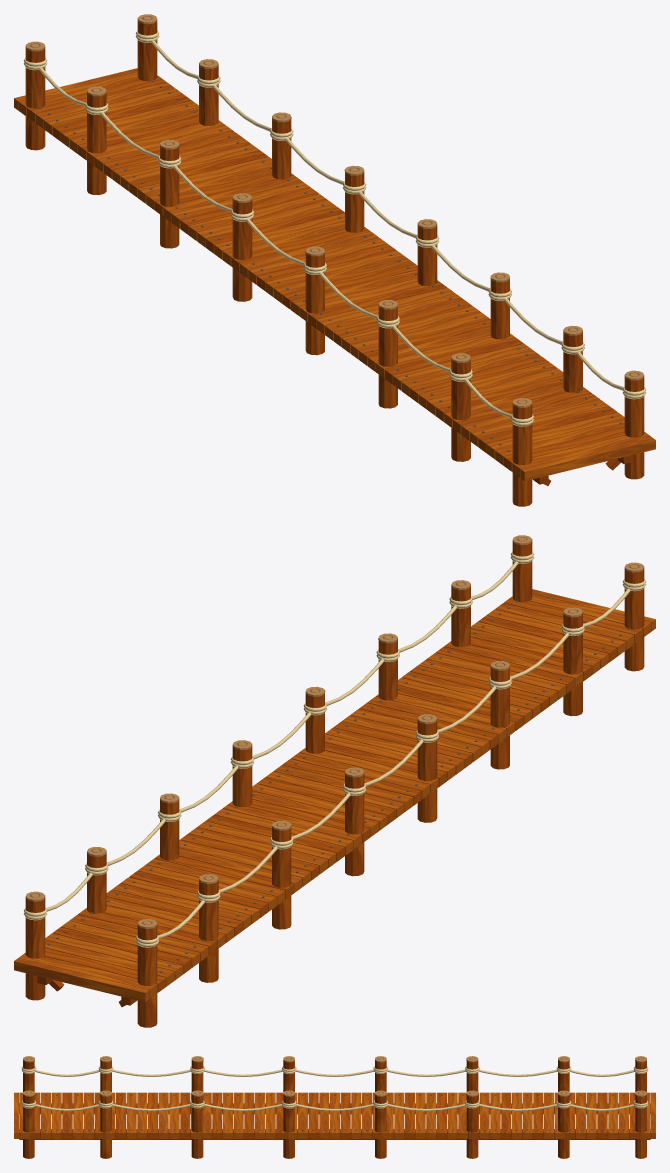
The model's file is wooden-bridge-12.gltf.
3 renders of one model, top to bottom at view 1: azimuth 30°, elevation 25°; view 2: azimuth 150°, elevation 25°; view 3: azimuth 270°, elevation 25°, orthographic. The views are drawn at different scales.
Visible parts, largest first — view 1: wooden-bridge-12; view 2: wooden-bridge-12; view 3: wooden-bridge-12.
Boxes of the visible parts, left/top/right/bottom form: wooden-bridge-12: left=14, top=14, right=655, bottom=506; wooden-bridge-12: left=14, top=535, right=655, bottom=1027; wooden-bridge-12: left=14, top=1056, right=655, bottom=1158.
Bounding box in the file's own units: 1.8 × 1.31 × 12.
2 materials, 1 textured.
